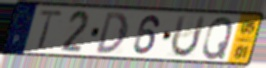2: (59, 10, 91, 54)
6: (132, 13, 161, 56)
D: (95, 11, 130, 55)
Q: (200, 15, 235, 61)
T: (36, 8, 66, 51)
U: (169, 14, 208, 60)
